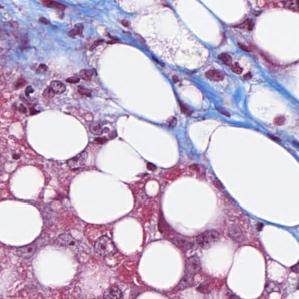inflammation: (9, 75, 72, 109)
